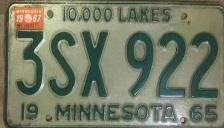2: (154, 30, 191, 99), (187, 30, 223, 99)
3: (14, 28, 46, 97)
9: (122, 31, 157, 98)
S: (46, 29, 78, 98)
X: (77, 28, 112, 99)
